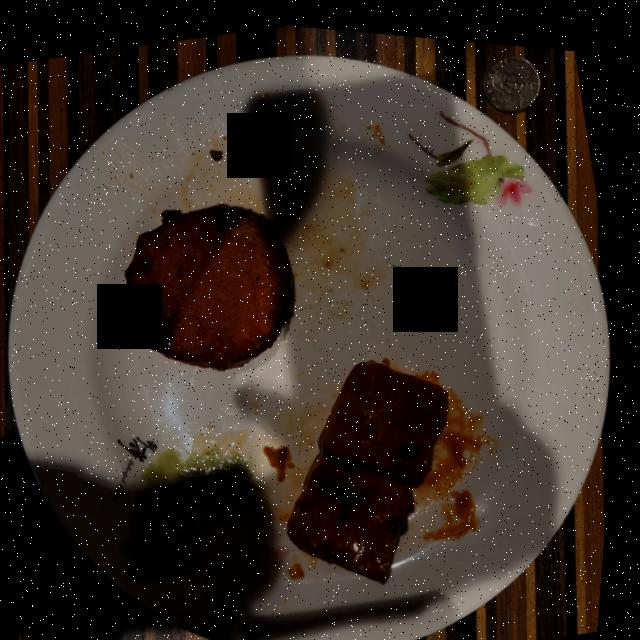Spam: (128, 201, 294, 365)
coin: (482, 45, 540, 102)
creamy tofu: (294, 353, 453, 574)
